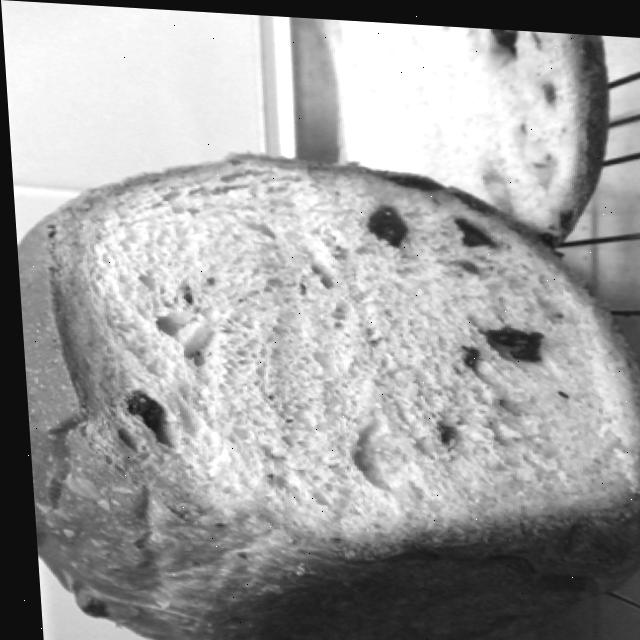面包点心: (7, 132, 640, 640)
